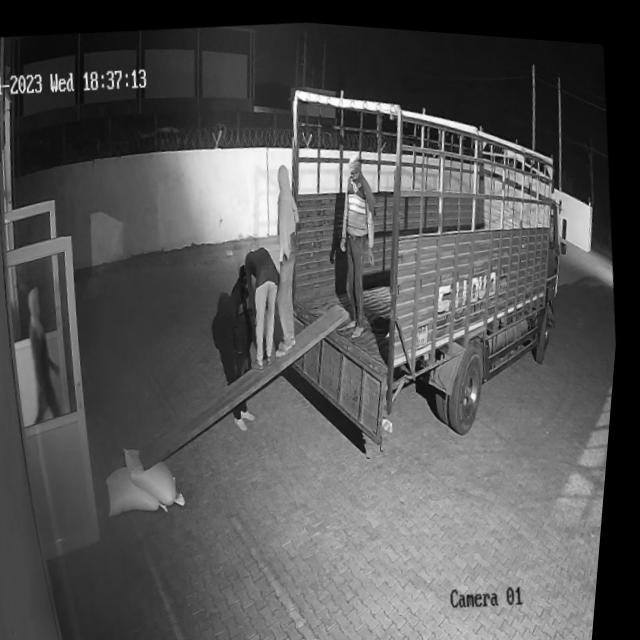sack: (127, 437, 196, 508), (110, 455, 179, 517)
